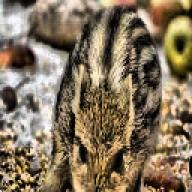boar: (33, 3, 162, 192)
